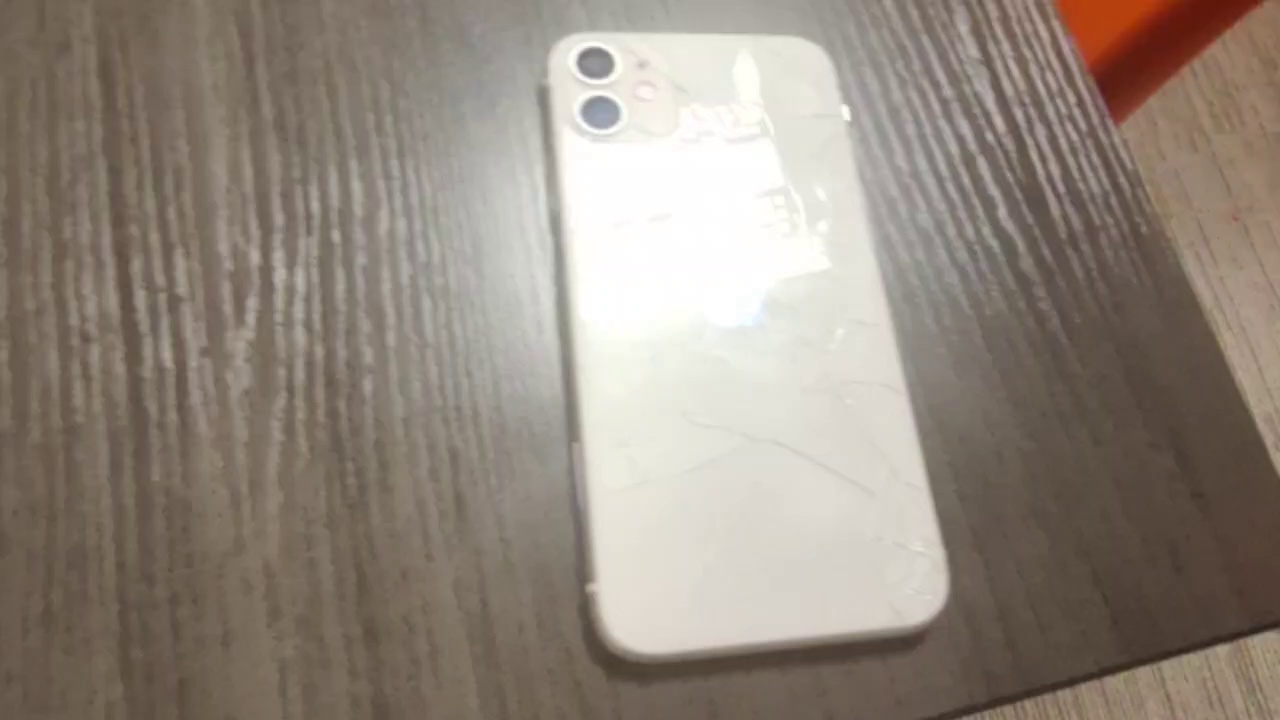celular: (548, 27, 950, 666)
